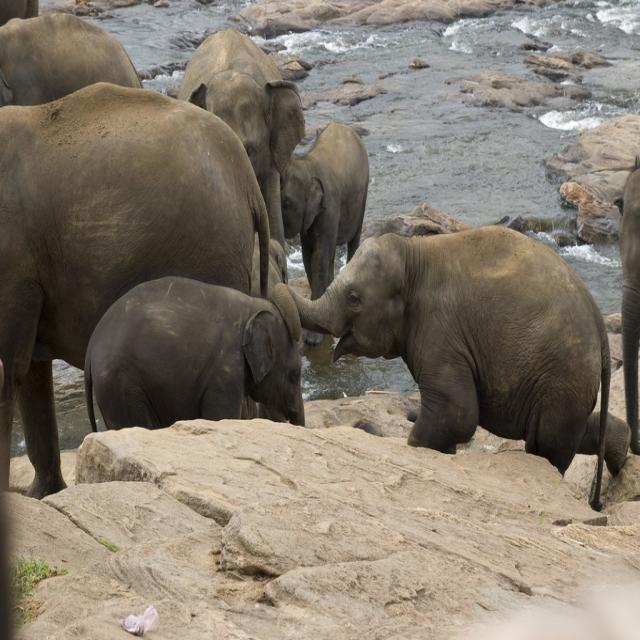elephant: (0, 78, 269, 504), (263, 208, 633, 474), (82, 268, 304, 436), (168, 33, 311, 268), (272, 116, 368, 297), (1, 13, 147, 108), (617, 161, 639, 446)
